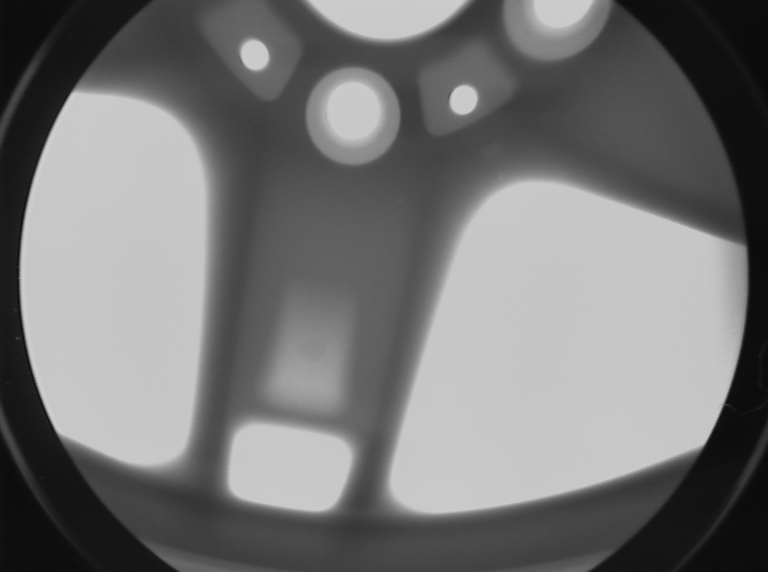defect: (394, 193, 411, 208)
